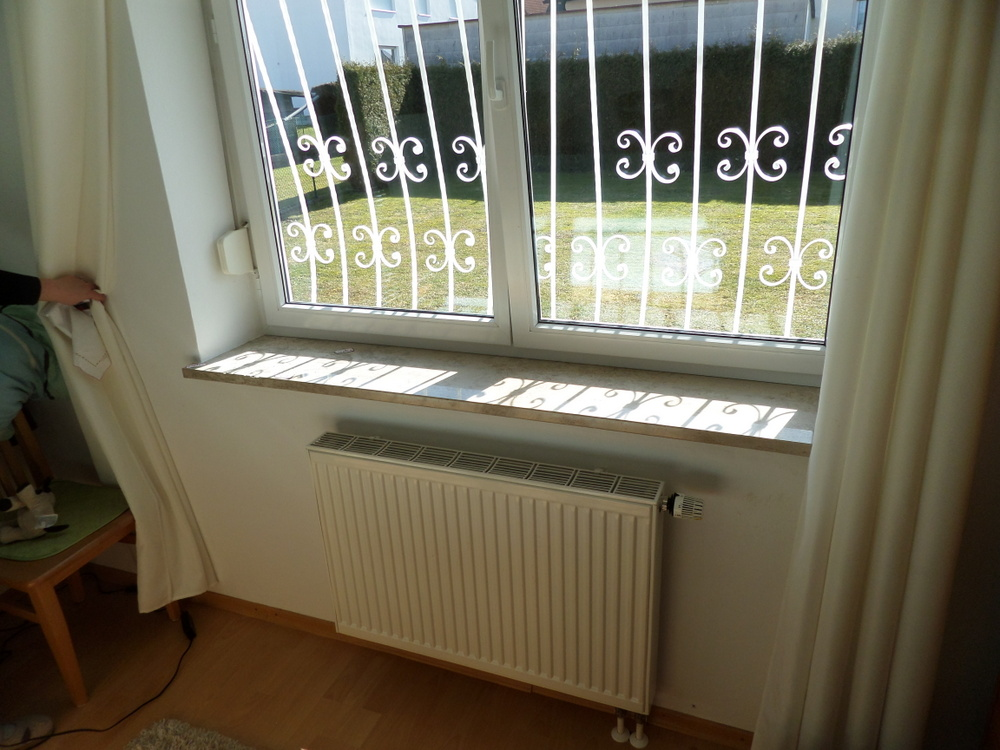windows: (201, 1, 847, 382)
